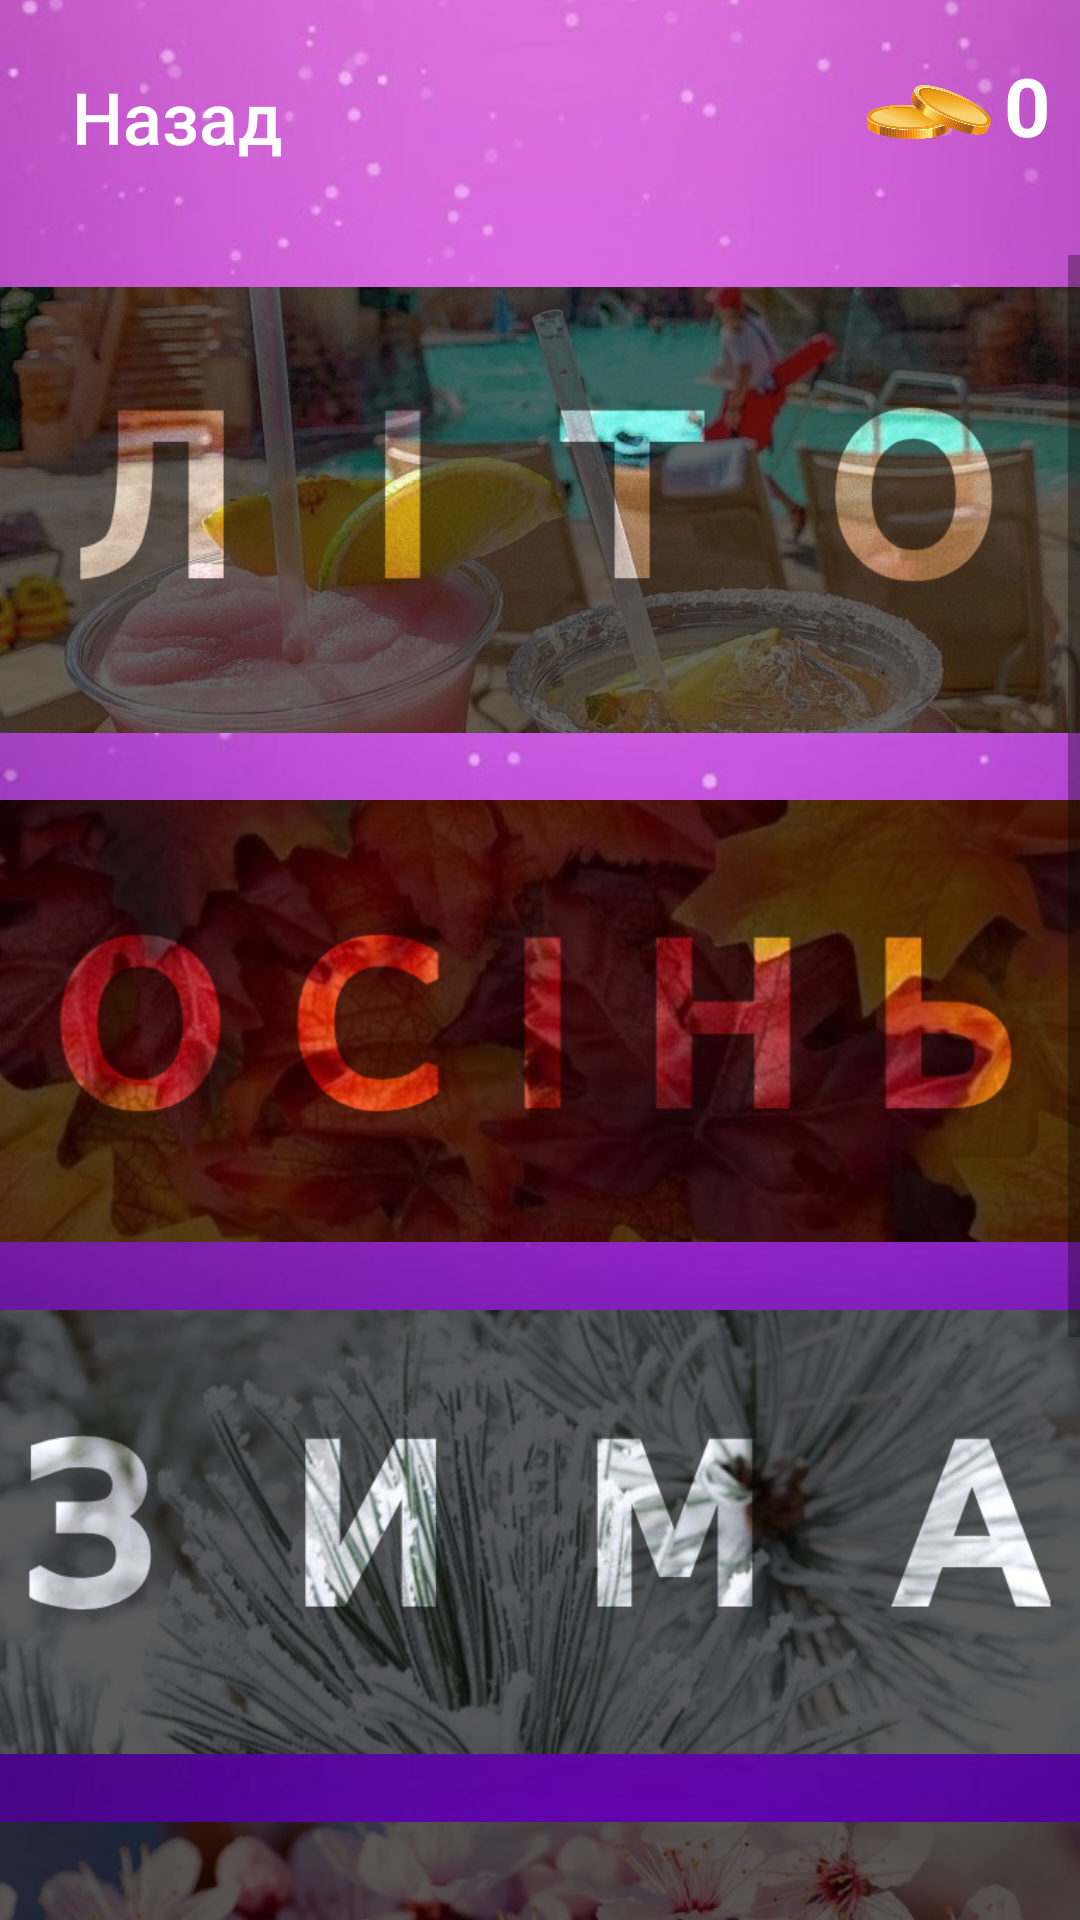

Where to tap for icons on this 1080x1920 app screen, as [x,y]:
all coin: [929,88]
